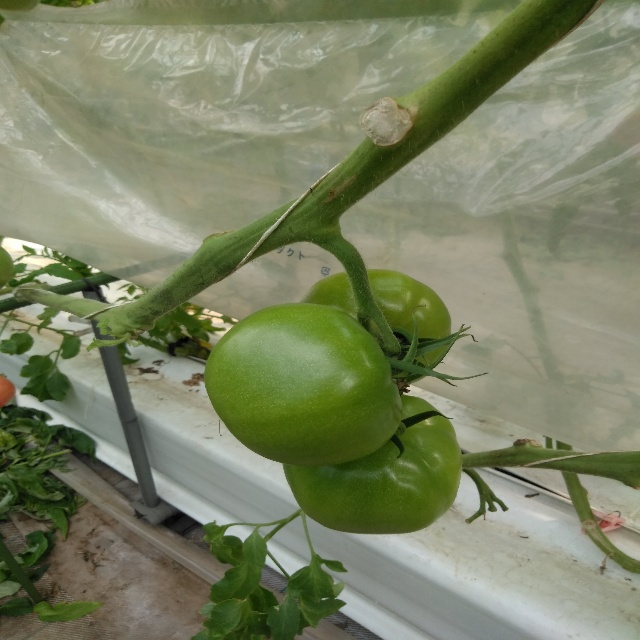b_green: (204, 302, 403, 467), (282, 394, 462, 535), (300, 269, 452, 386)
